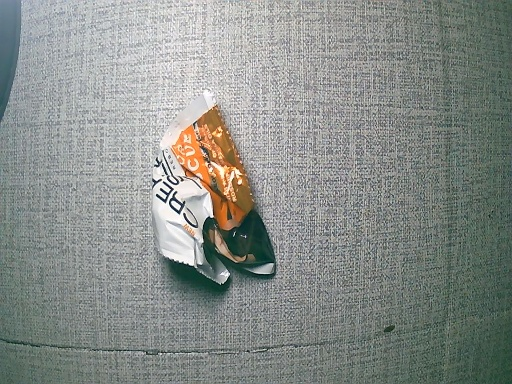plastic: (141, 85, 277, 287)
